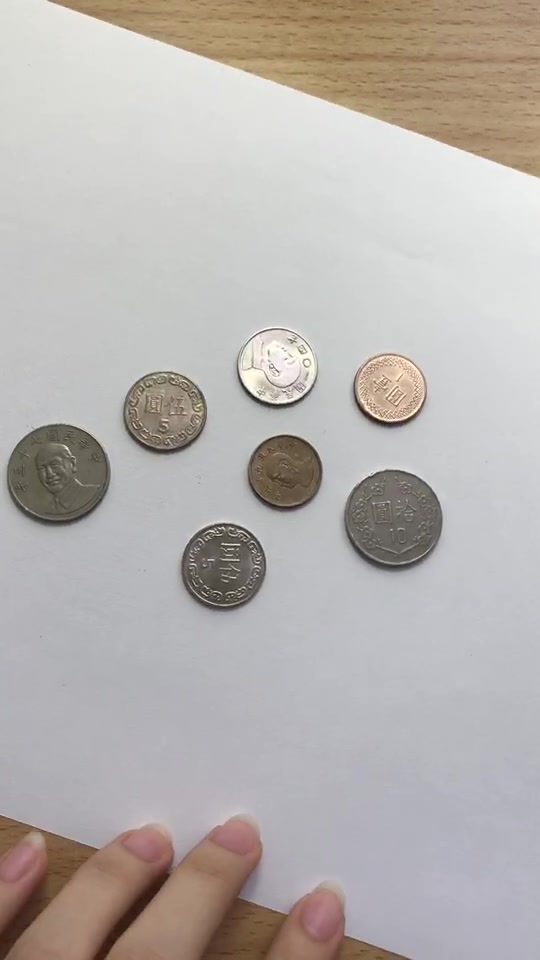1 dallar: (239, 435, 332, 512), (342, 352, 435, 429)
10 dallar: (3, 413, 117, 527), (336, 457, 450, 571)
5 dallar: (179, 514, 270, 614), (230, 315, 321, 415), (120, 364, 211, 464)
